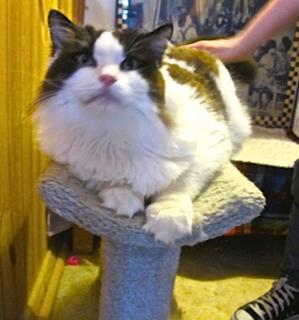ragdoll: (31, 4, 184, 148)
